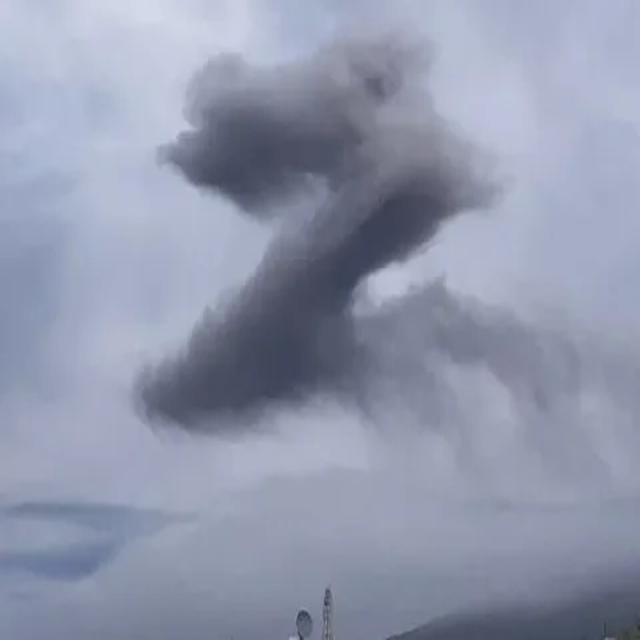Smoke: (132, 39, 509, 436)
